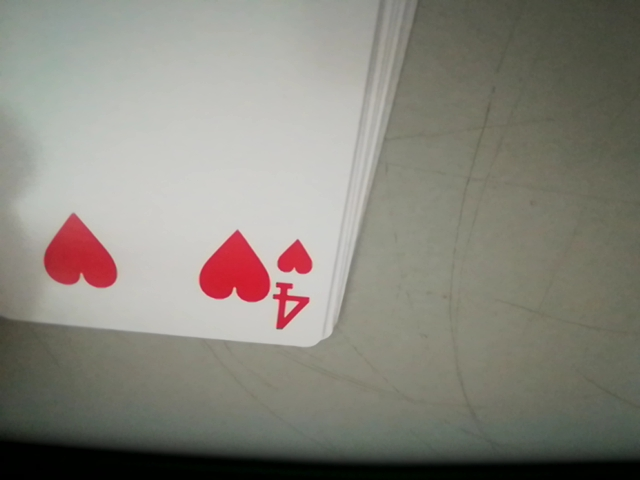hx 4: (273, 239, 312, 332)
